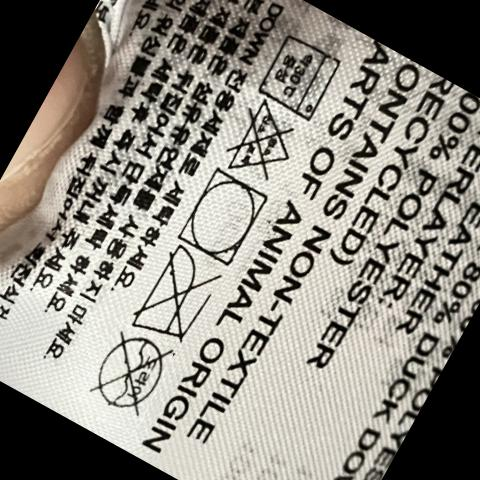30C: (259, 40, 348, 120)
DN_bleach: (223, 104, 298, 176)
DN_dry_clean: (91, 335, 176, 413)
DN_iron: (129, 249, 222, 342)
tumble_dry_normal: (179, 170, 276, 263)
